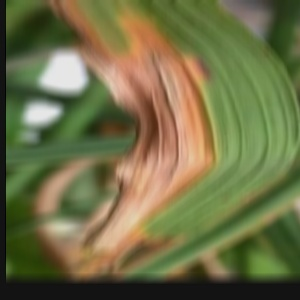Leaf_Blast: (114, 0, 271, 239)
